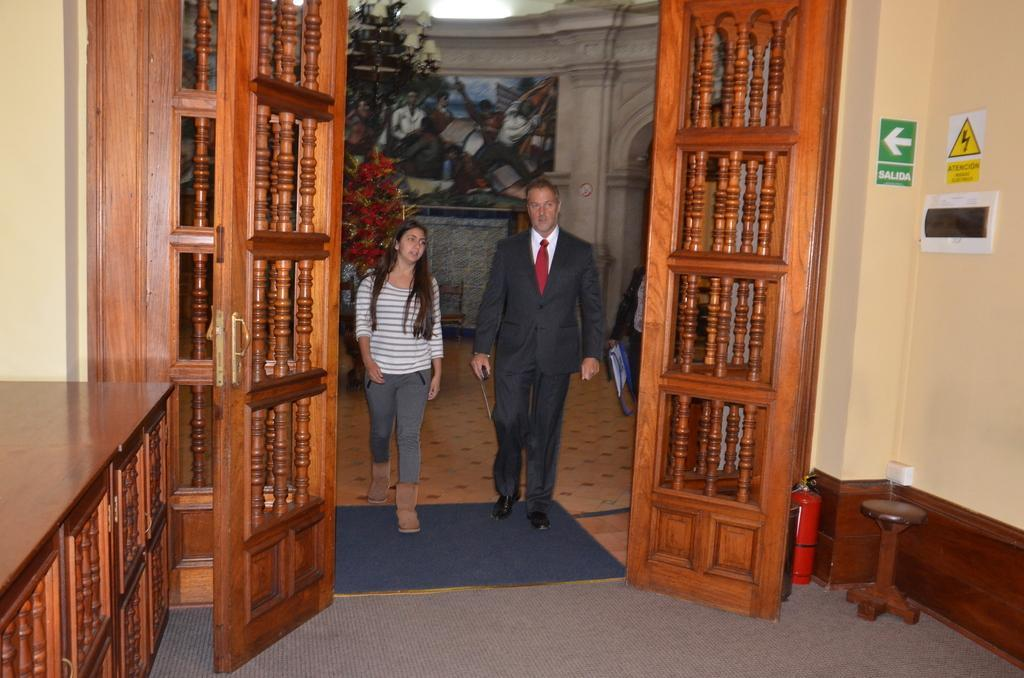door: (666, 15, 788, 592), (264, 10, 338, 604)
handle: (230, 303, 252, 374)
